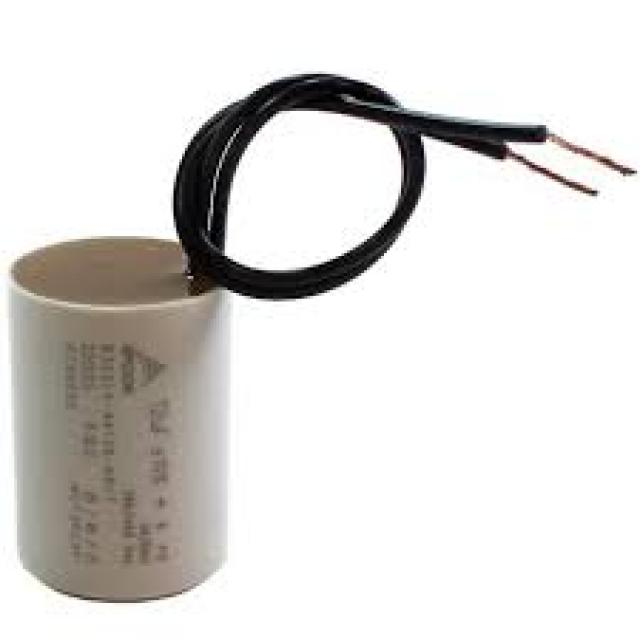Capacitor: (9, 239, 230, 606)
